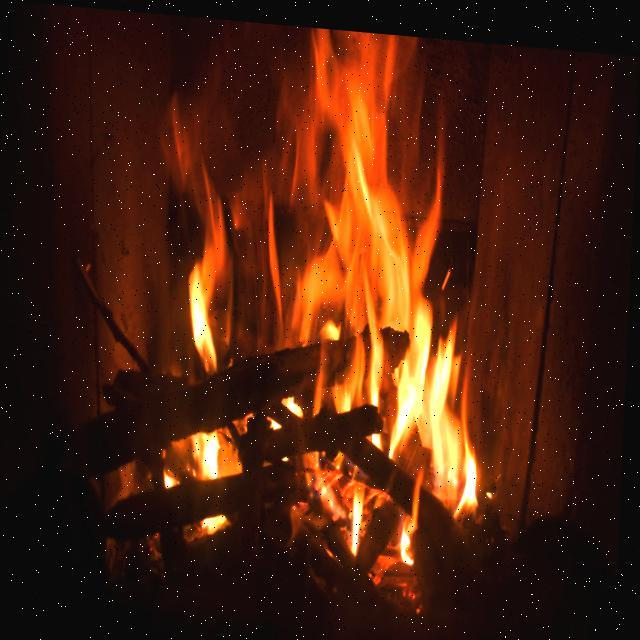Fire: (125, 12, 495, 606)
